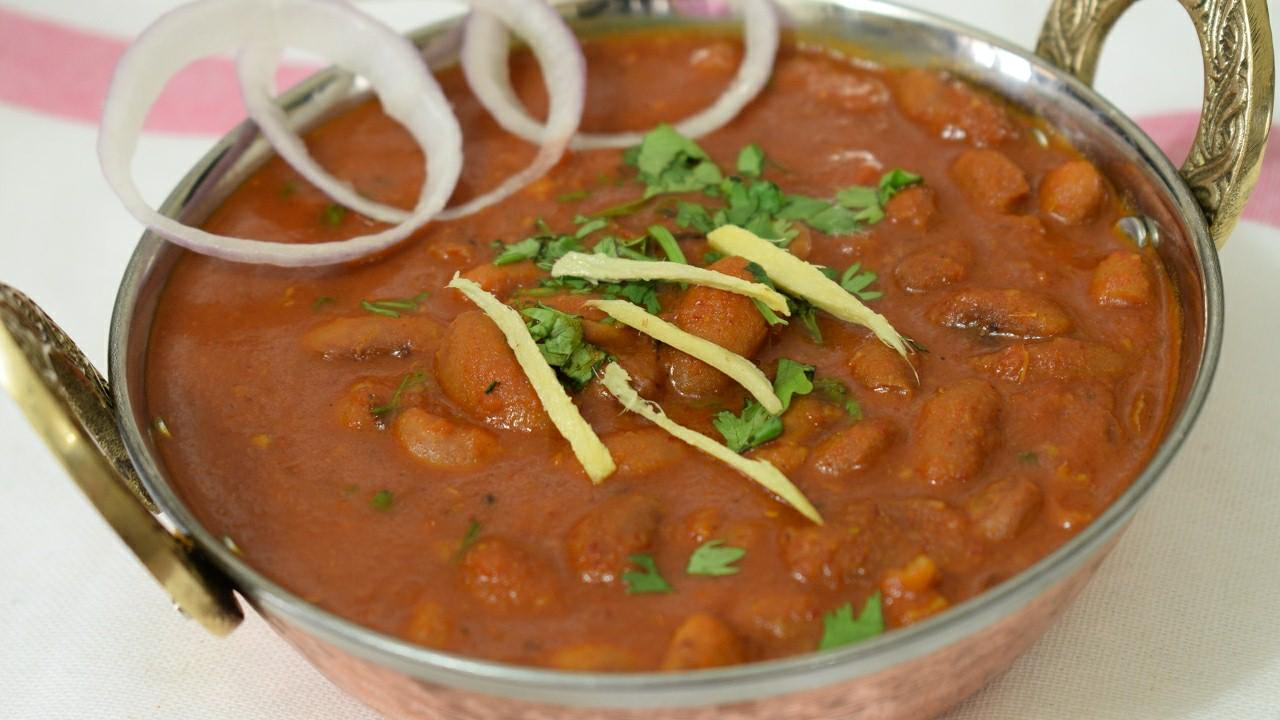RajmaCurry: (147, 18, 1183, 685)
